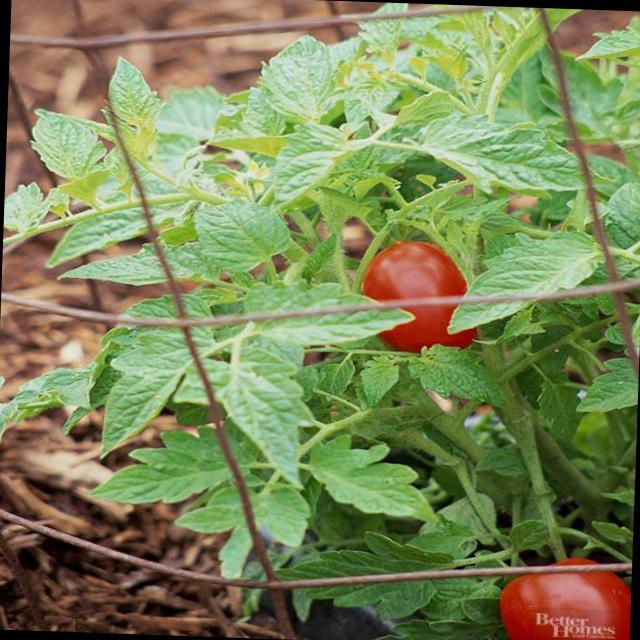Healthy Leaf: (450, 220, 622, 337), (93, 323, 234, 464), (193, 340, 323, 480), (415, 117, 614, 204), (273, 532, 465, 618), (290, 436, 436, 529), (83, 422, 232, 509), (43, 187, 170, 273), (253, 33, 357, 128), (252, 287, 407, 349), (190, 192, 284, 277), (399, 340, 511, 409), (29, 109, 107, 181), (104, 57, 169, 142)
